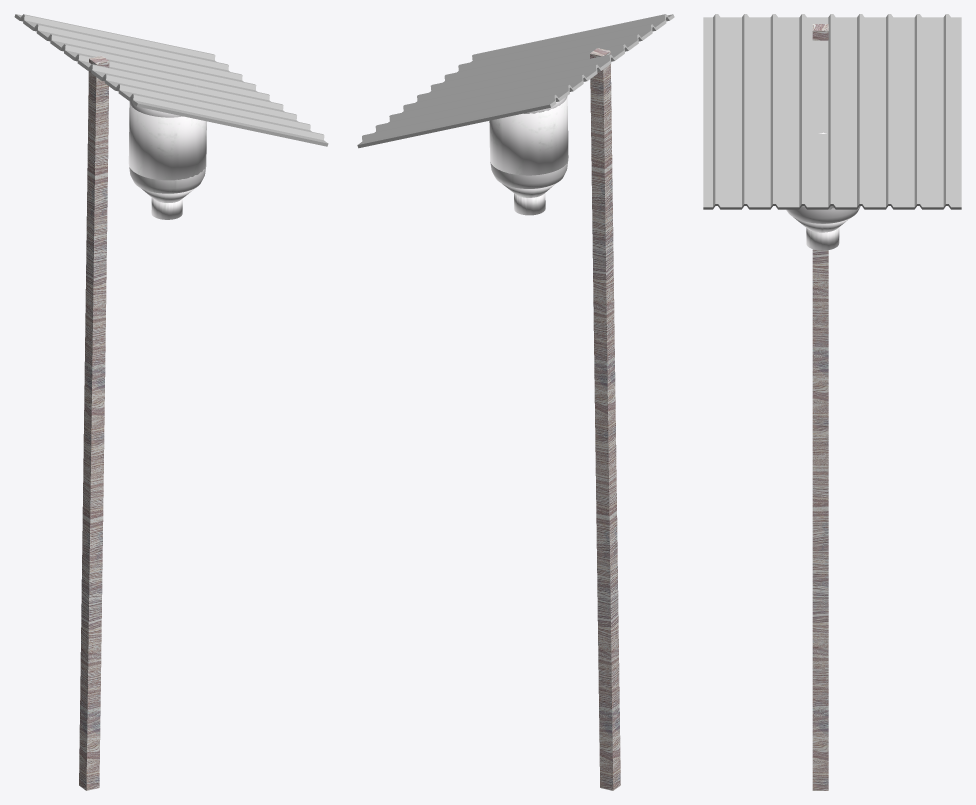
File: ilaw.obj
3 views of the same model, side by side, from view 1: azimuth 30°, elevation 25°; view 2: azimuth 150°, elevation 25°; view 3: azimuth 270°, elevation 25° (orthographic). The views are drawn at different scales.
Visible parts, largest first — view 1: Part1, Yero1, Meshpart1; view 2: Part1, Yero1, Meshpart1; view 3: Yero1, Part1, Meshpart1.
Boxes of the visible parts, x1=… form: Part1: x1=79, y1=55, x2=109, y2=790; Yero1: x1=14, y1=14, x2=328, y2=146; Meshpart1: x1=128, y1=85, x2=206, y2=219; Part1: x1=590, y1=48, x2=620, y2=790; Yero1: x1=357, y1=14, x2=674, y2=148; Meshpart1: x1=489, y1=96, x2=568, y2=215; Yero1: x1=703, y1=14, x2=961, y2=209; Part1: x1=812, y1=24, x2=828, y2=790; Meshpart1: x1=786, y1=132, x2=860, y2=250.
Bounding box in the file's own units: 4.73 × 17.05 × 5.18.
